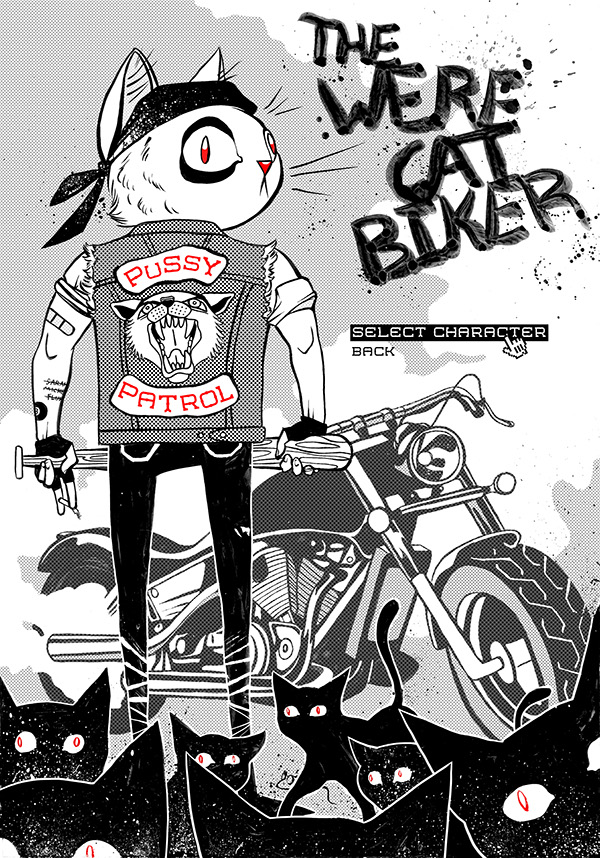bicycle: (31, 374, 596, 745)
cat: (24, 46, 337, 821), (401, 602, 600, 858), (277, 596, 422, 824), (184, 749, 457, 858), (1, 718, 171, 858), (157, 711, 270, 858), (1, 663, 115, 791), (341, 733, 438, 812)
